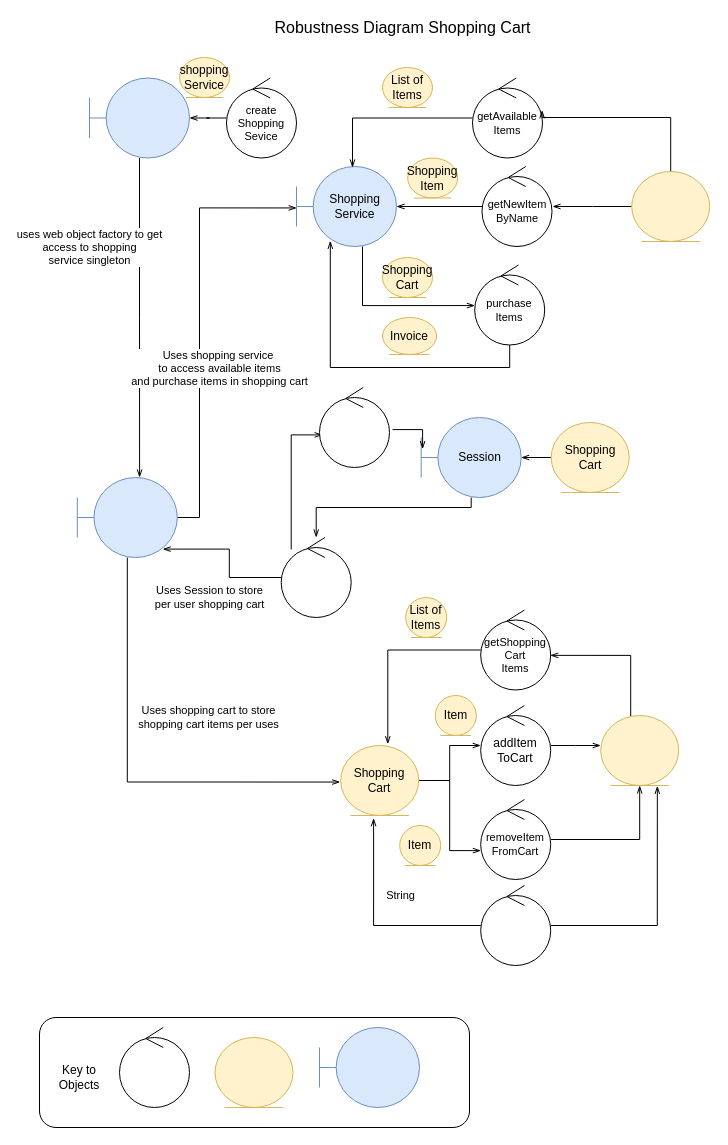
The diagram is 728 pixels wide and 1145 high, and some of its shapes have lost their labels. Here are the shapes that lost their labels. From the top down, the box of each, then its label:
(88, 77, 190, 158): WebObject Factory
(631, 170, 710, 242): ItemMap
(318, 386, 390, 468): create Shopping Cart
(76, 476, 177, 558): home.jsp
(280, 536, 351, 618): getShopping Cart
(600, 714, 679, 786): Shopping Cart Items
(480, 884, 551, 966): getTotal
(118, 1026, 190, 1108): Control Object
(214, 1036, 293, 1108): Entity Object
(318, 1026, 420, 1108): Boundary Object
